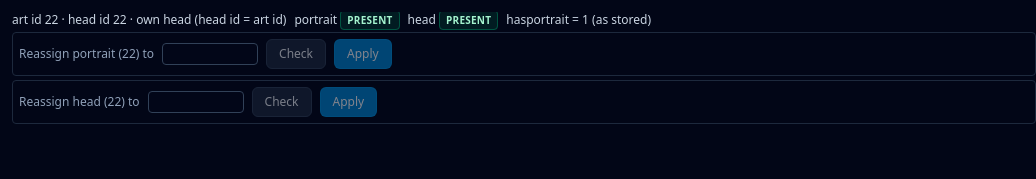
PlayerContainmentCard › checks a reassignment target, shows the evidence or the refusal, and applies only an allowed plan (receipt 38)
Expected: the element with test id "reassign-portrait" is shown, [12,32,1035,76]
Expected: the button with test id "reassign-portrait-apply" is disabled, [334,39,392,69]
In the field with test id "reassign-portrait-target": (210, 54) [162,43,258,65], type "99999"
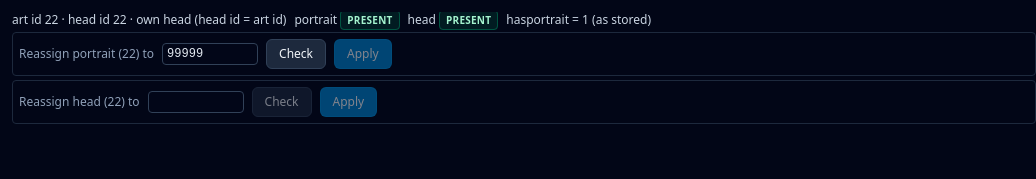
Click the button with test id "reassign-portrait-check": (296, 54) [266,39,326,69]
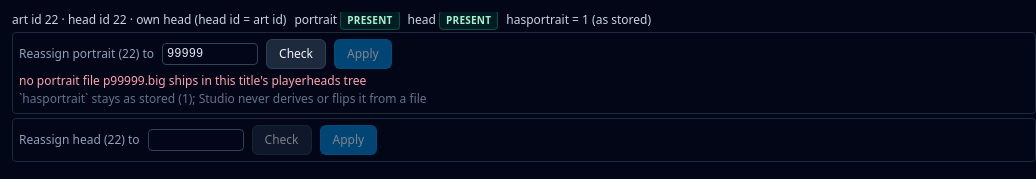
Expected: the button with test id "reassign-portrait-apply" is disabled, [334,39,392,69]
Expected: the text with test id "reassign-portrait-refusal" shows "no portrait file p99999.big", [19,72,366,89]
Replace the text in the field with test id "reassign-portrait-target" with "31": (210, 54) [162,43,258,65]
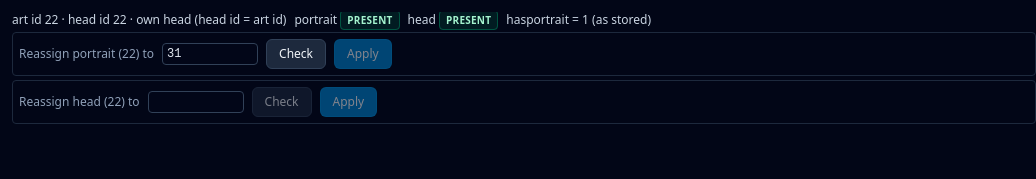
Expected: the element with test id "reassign-portrait-plan" is gone
Click the button with test id "reassign-portrait-check": (296, 54) [266,39,326,69]
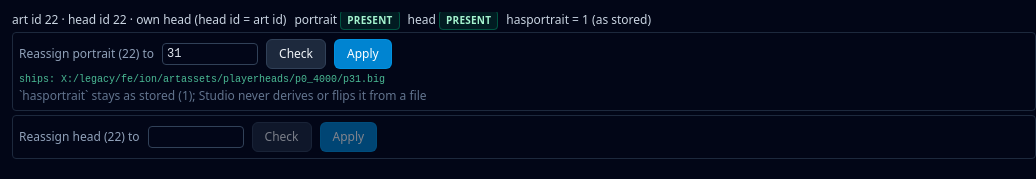
Expected: the button with test id "reassign-portrait-apply" is enabled
Click the button with test id "reassign-portrait-apply": (363, 54) [334,39,392,69]
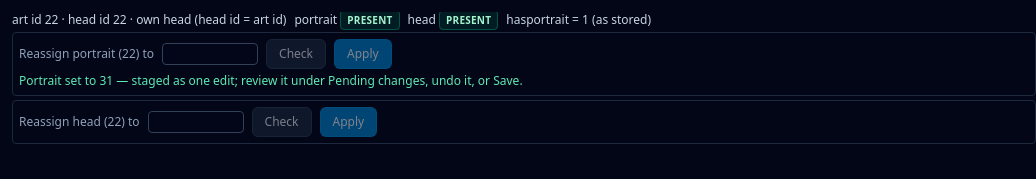
Expected: the element with test id "reassign-head" is shown, [12,100,1035,144]
Expected: the text with test id "reassign-portrait-done" is shown, [19,72,523,89]
